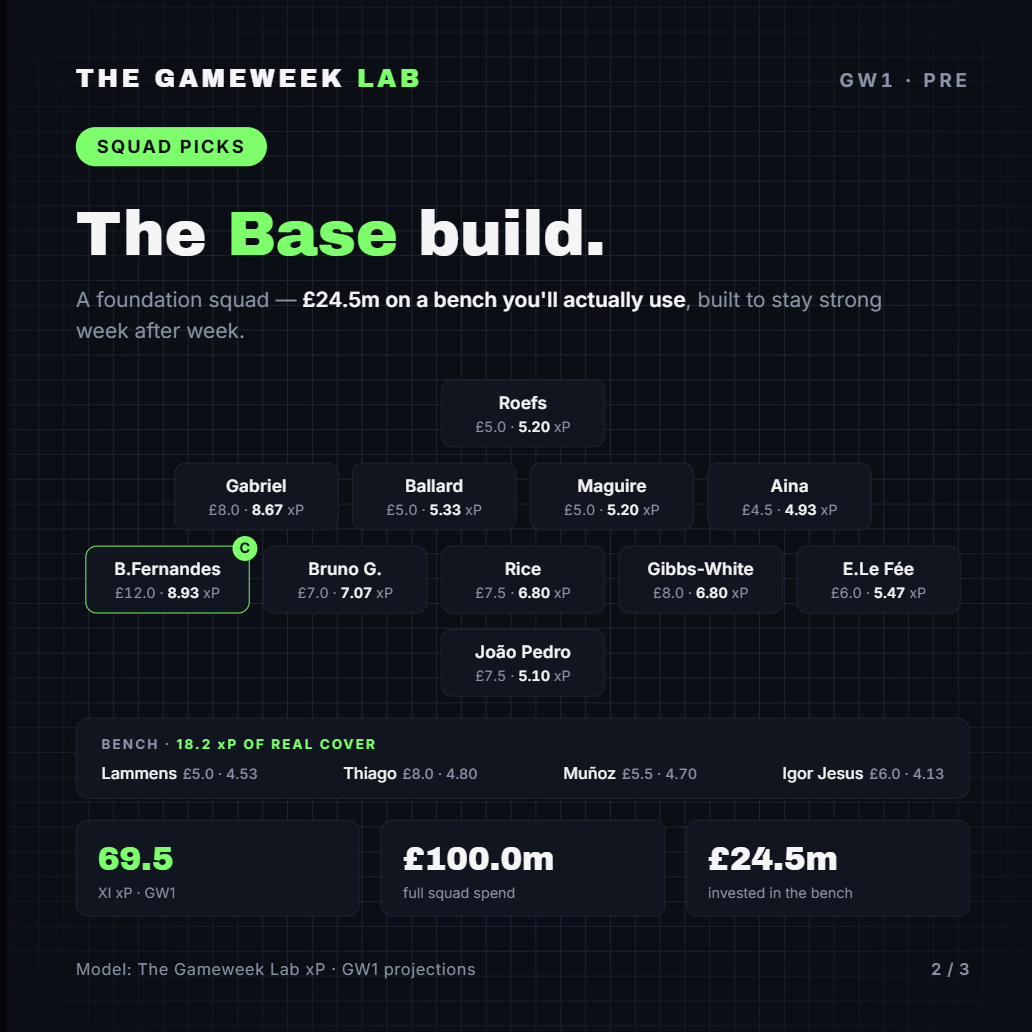

The page's visual inventory and layout, read from the dashboard file:
{"tool":"tableau","page":{"name":"Team Reveal","canvas":[1080,1350],"ordinal":0},"visuals":[{"type":"image","param":"C:/Users/vinil/OneDrive/Documentos/Coding/FPL/data/Tableau Workbooks/Images/gwla","box":[0,0,1080,1350]},{"type":"worksheet","title":"GW Number","mark":"Text","box":[937,53,104,26]},{"type":"worksheet","title":"XI xP - GW","mark":"Automatic","box":[53,200,178,78]},{"type":"worksheet","title":"full squad spend","mark":"Automatic","box":[235,200,178,78]},{"type":"worksheet","title":"invested in the bench","mark":"Automatic","box":[417,200,178,78]},{"type":"worksheet","title":"Base Build (GKP)","mark":"Automatic","cols":["photo_url"],"box":[457,317,171,150]},{"type":"worksheet","title":"Base Build (DEF)","mark":"Automatic","cols":["photo_url"],"box":[176,535,723,150]},{"type":"worksheet","title":"Base Build (MID)","mark":"Automatic","cols":["photo_url"],"box":[96,756,895,150]},{"type":"worksheet","title":"Base Build (FWD)","mark":"Automatic","cols":["photo_url"],"box":[461,978,165,150]},{"type":"worksheet","title":"Bench 1","mark":"Automatic","rows":["position"],"box":[49,1210,232,62]},{"type":"worksheet","title":"Bench 2","mark":"Automatic","rows":["position"],"box":[300,1210,232,62]},{"type":"worksheet","title":"Bench 3","mark":"Automatic","rows":["position"],"box":[548,1210,234,62]},{"type":"worksheet","title":"Bench 4","mark":"Automatic","rows":["position"],"box":[801,1210,232,62]}]}

Visuals, with their boxes on the page's 1080x1350 design canvas (x1, y1, x2, y2). These are canvas units, not pixel positions in the 1032x1032 screenshot, which may show the page scaled, cropped or inside an application window:
image: 0:0:1080:1350
"GW Number" worksheet (Text marks): 937:53:1041:79
"XI xP - GW" worksheet: 53:200:231:278
"full squad spend" worksheet: 235:200:413:278
"invested in the bench" worksheet: 417:200:595:278
"Base Build (GKP)" worksheet: 457:317:628:467
"Base Build (DEF)" worksheet: 176:535:899:685
"Base Build (MID)" worksheet: 96:756:991:906
"Base Build (FWD)" worksheet: 461:978:626:1128
"Bench 1" worksheet: 49:1210:281:1272
"Bench 2" worksheet: 300:1210:532:1272
"Bench 3" worksheet: 548:1210:782:1272
"Bench 4" worksheet: 801:1210:1033:1272
